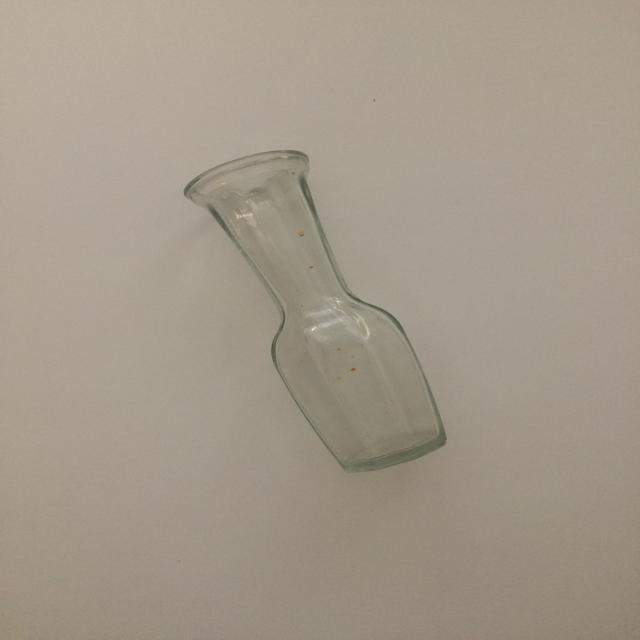glass: (182, 148, 452, 472)
